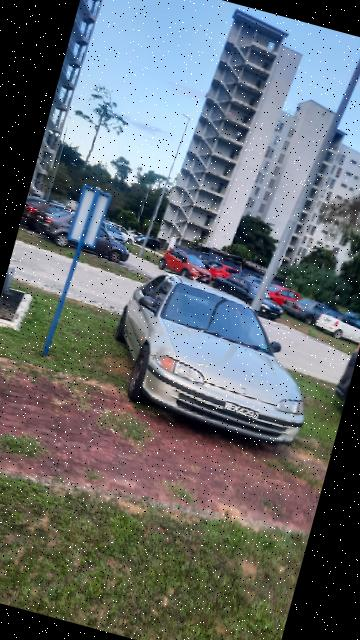License_Plate: (219, 397, 264, 425)
car: (94, 260, 335, 456)
